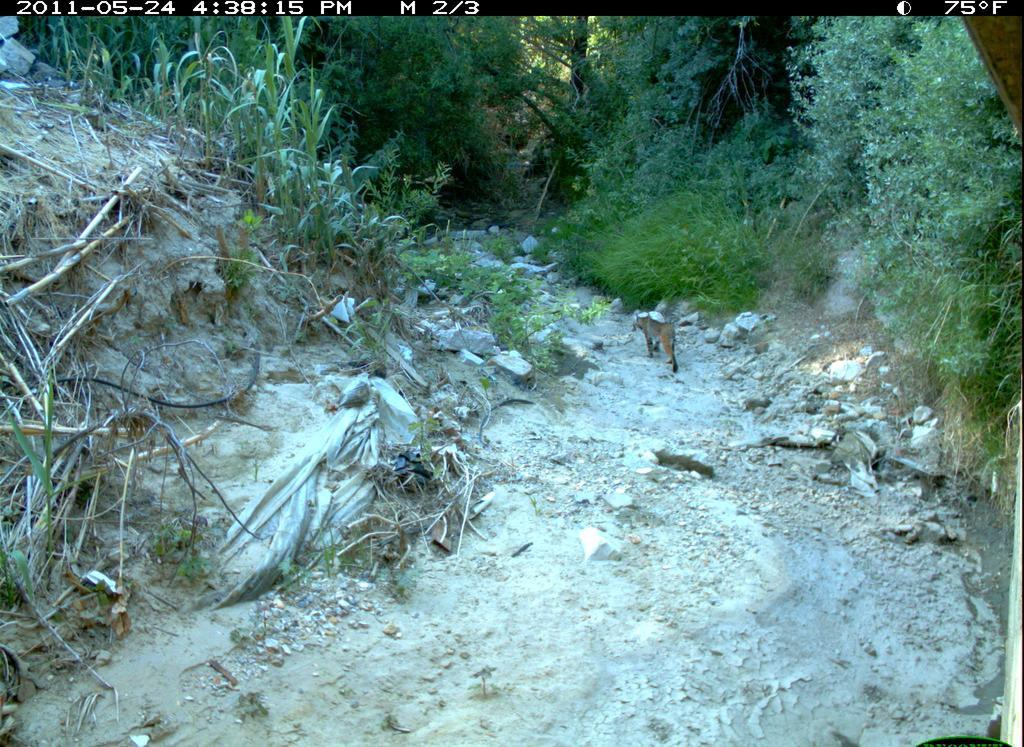bobcat: (634, 308, 685, 380)
